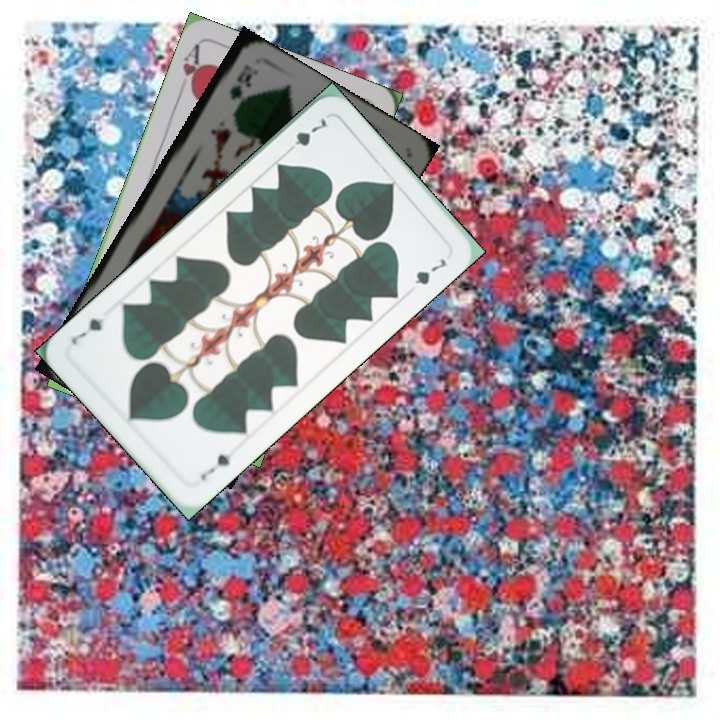G7: (281, 114, 331, 157), (196, 450, 233, 483)
GK: (225, 60, 258, 103)
HA: (174, 41, 206, 99)
